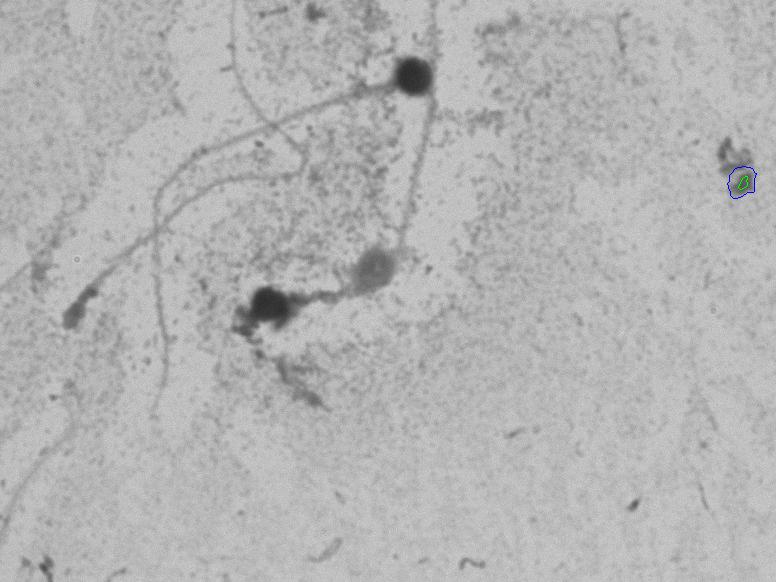Abnormal: (217, 181, 495, 399), (158, 14, 447, 163)
